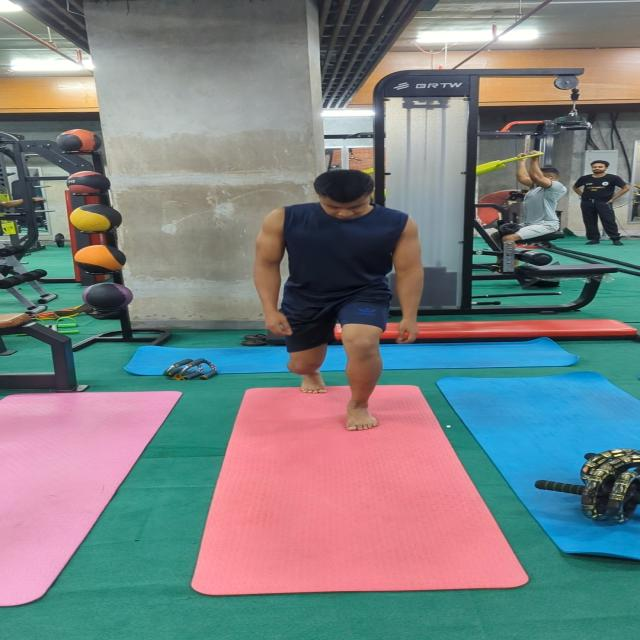Normal_Lunges: (251, 166, 424, 434)
